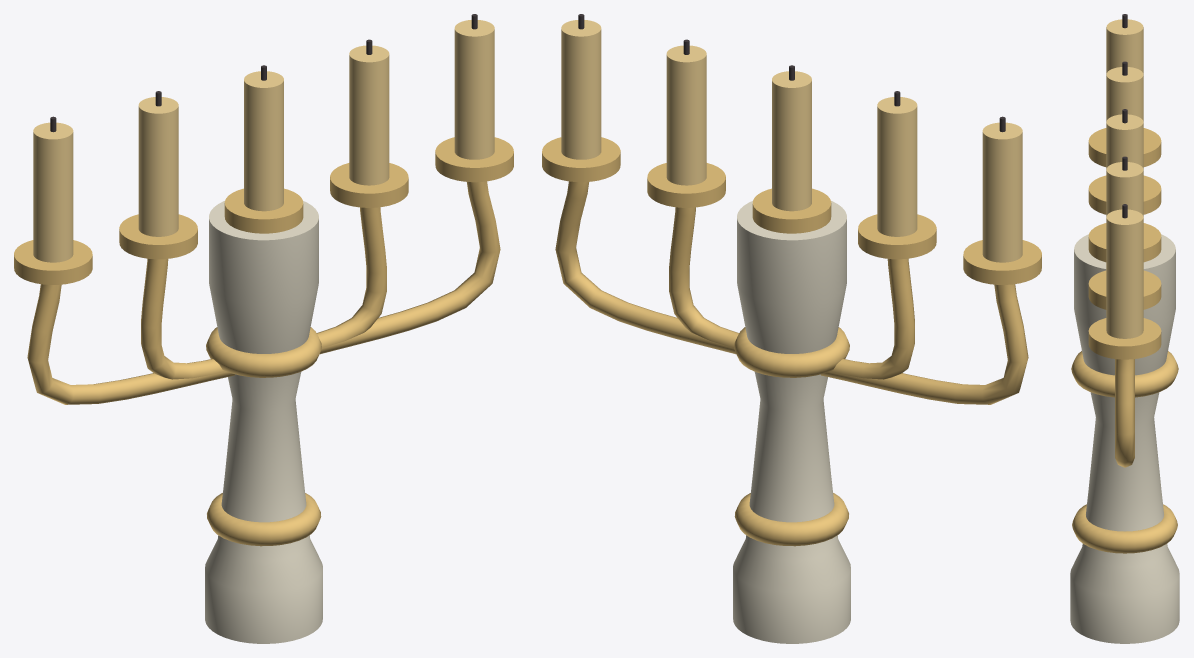
File: royal-court-and-throne-palace-five-light-candelabrum-654b64cb__29413.glb
The picture shows the model from 3 angles, left to right: view 1: azimuth 30°, elevation 25°; view 2: azimuth 150°, elevation 25°; view 3: azimuth 270°, elevation 25°; orthographic projection. The views are drawn at different scales.
Parts seen in each view (by area): view 1: five-light-candelabrum; view 2: five-light-candelabrum; view 3: five-light-candelabrum.
Boxes of the visible parts, box(x1,y1,x2,y2) form: five-light-candelabrum: box(14, 14, 513, 643); five-light-candelabrum: box(542, 14, 1041, 643); five-light-candelabrum: box(1070, 14, 1179, 643).
Bounding box in the file's own units: 0.79 × 0.852 × 0.165.
